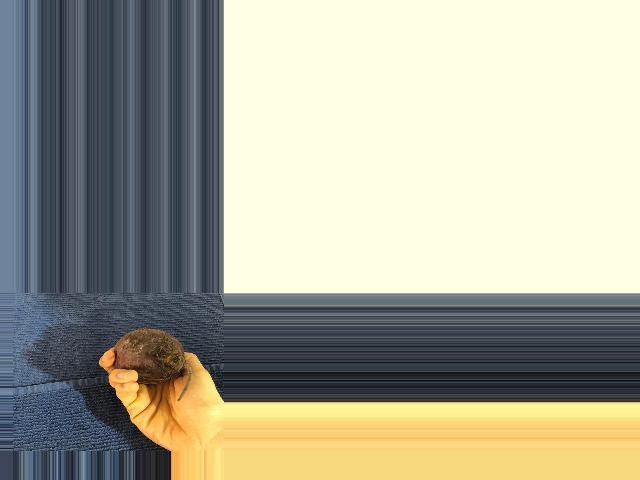beet: (113, 329, 191, 402)
